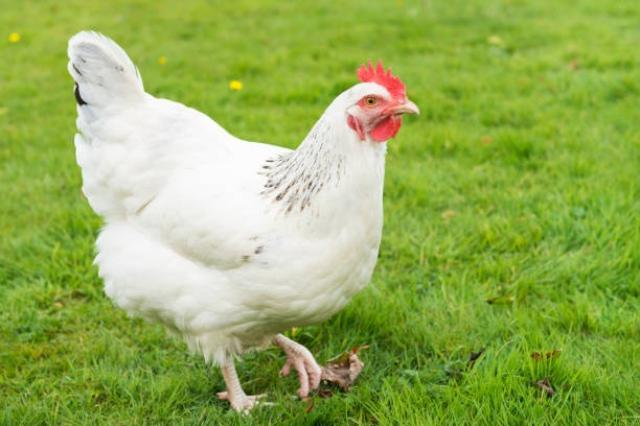Chicken: (65, 30, 423, 414)
